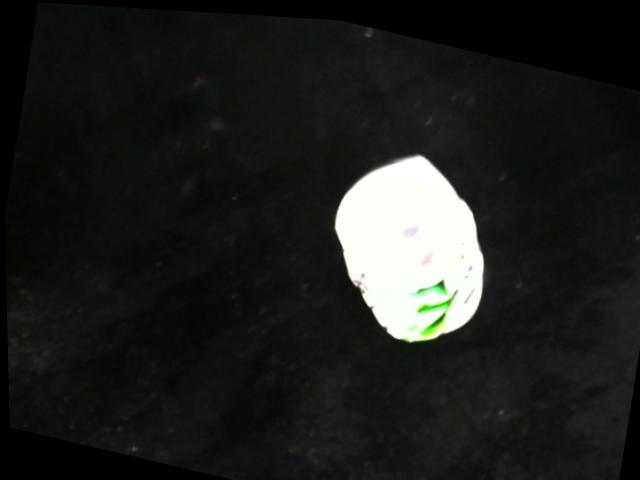can: (332, 142, 487, 341)
